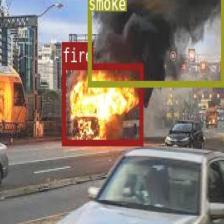fire: (62, 62, 142, 144)
smoke: (88, 0, 224, 85)
